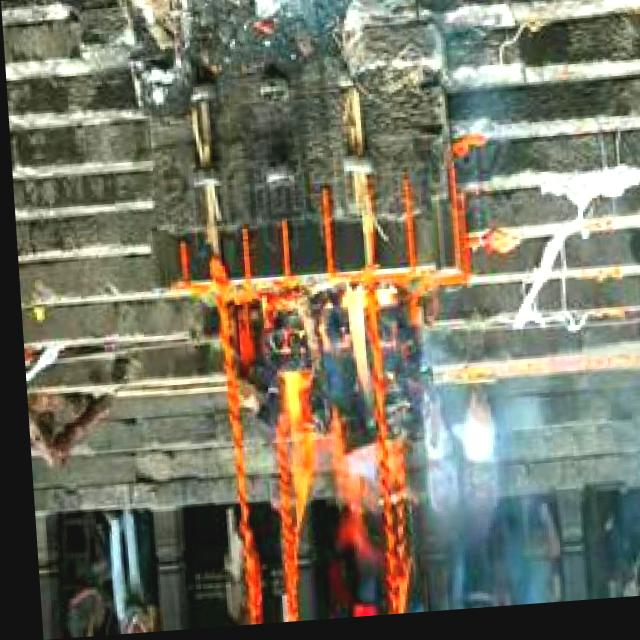Fire: (270, 286, 390, 545)
